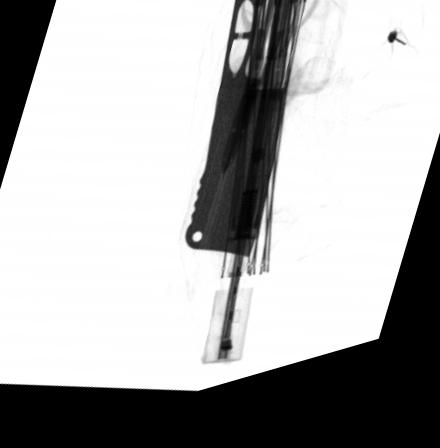Knife: (184, 0, 284, 271)
Scissors: (220, 0, 322, 188)
